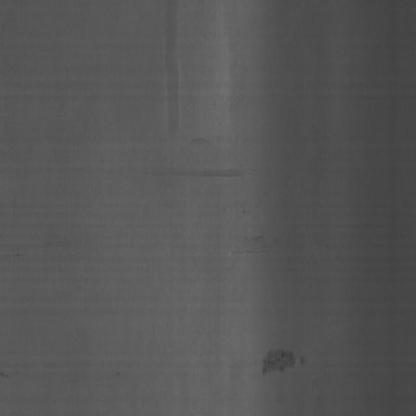oil_spot: (259, 335, 309, 392)
water_spot: (161, 2, 189, 146)
